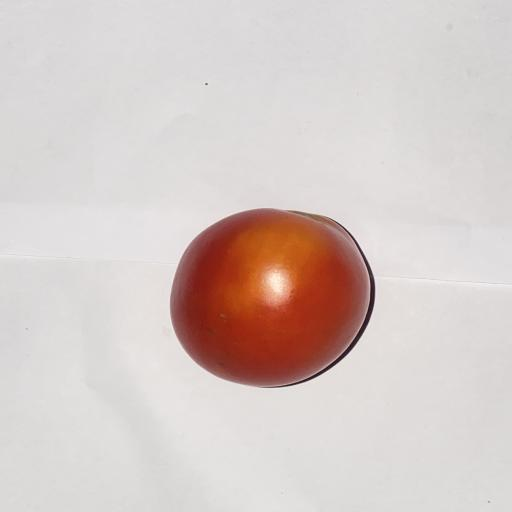ripe: (170, 209, 370, 386)
